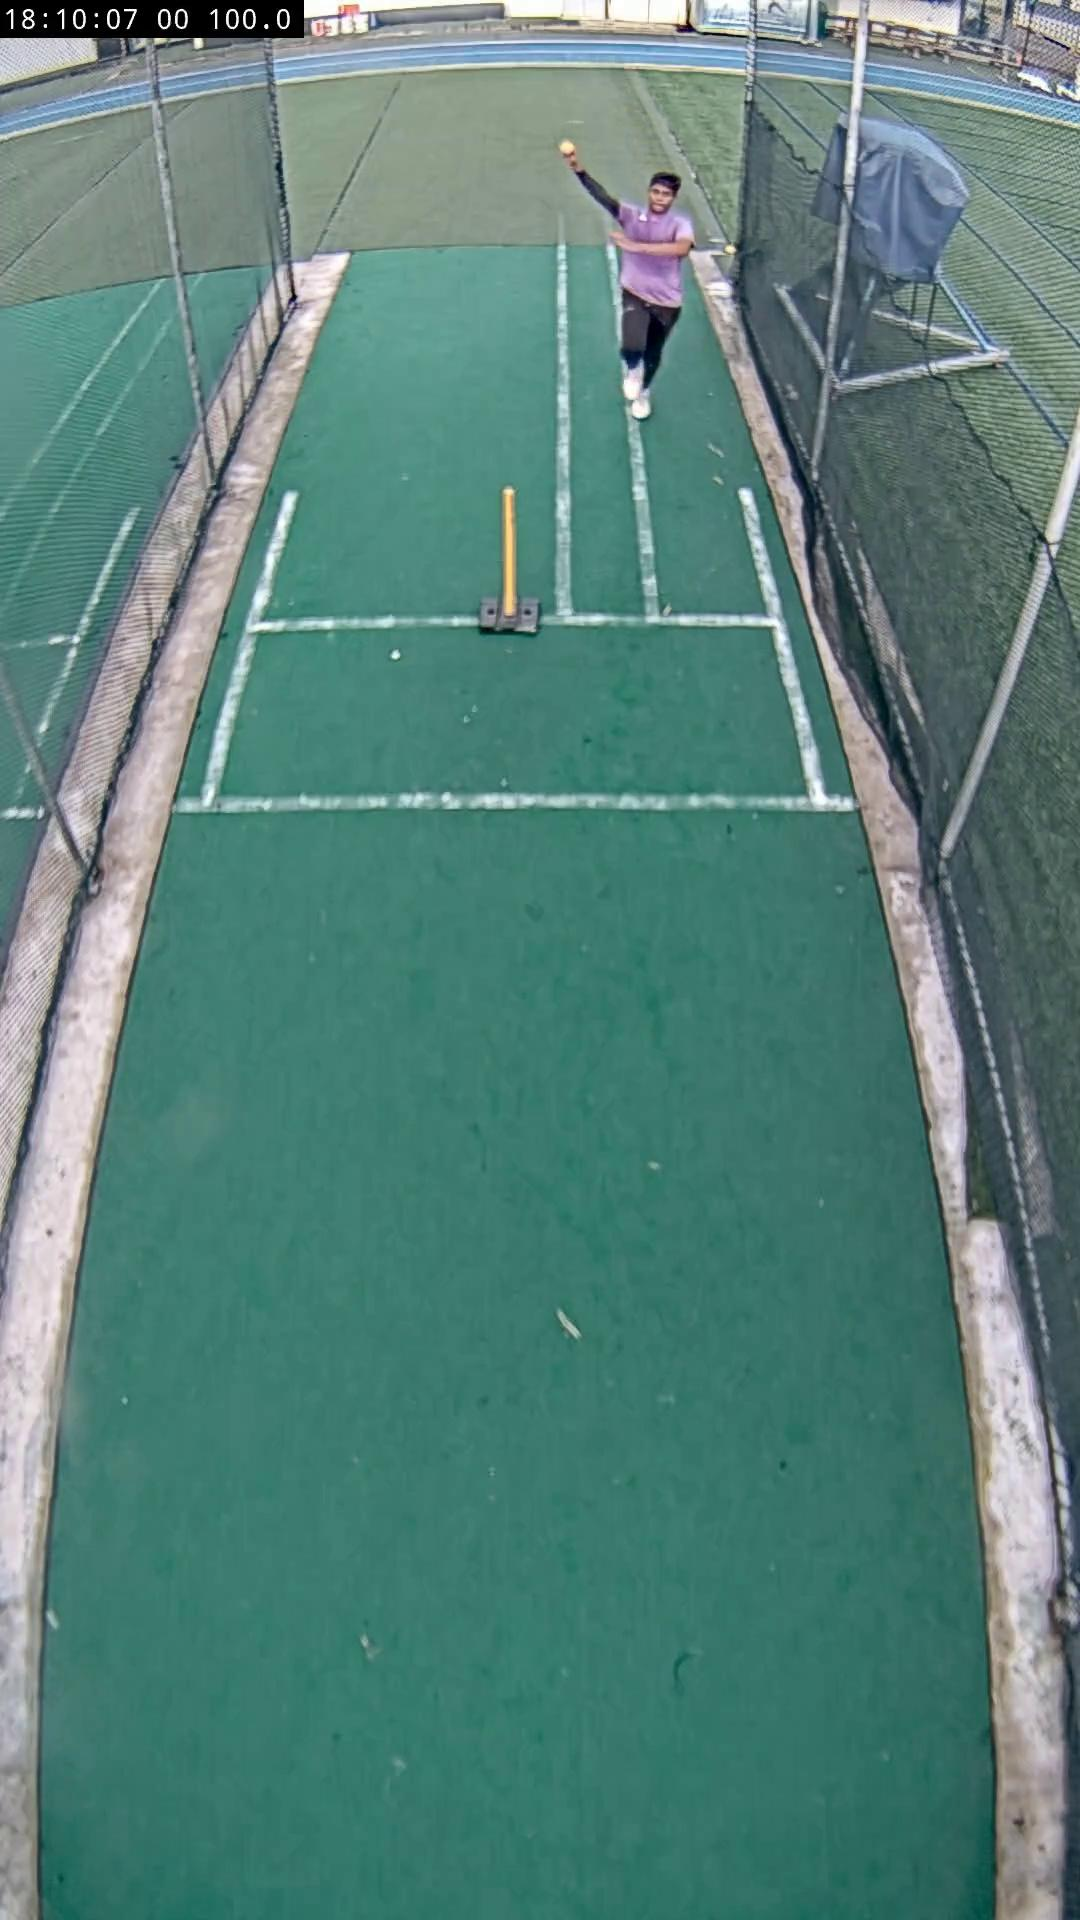ball: (559, 138, 578, 157)
stumps: (476, 488, 541, 634)
